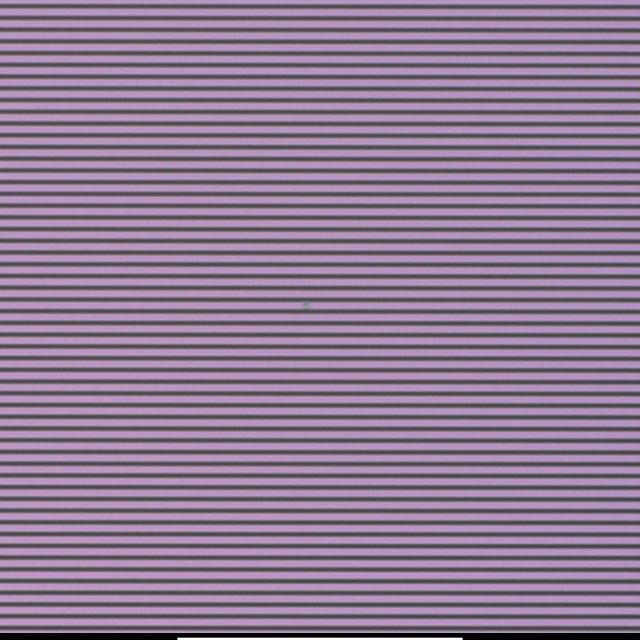nonvisual: (301, 298, 315, 312)
